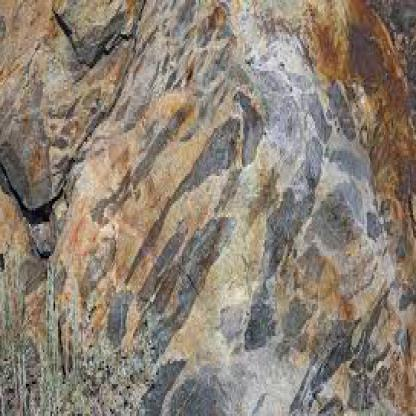Igneous_Diorite: (0, 4, 415, 414)
